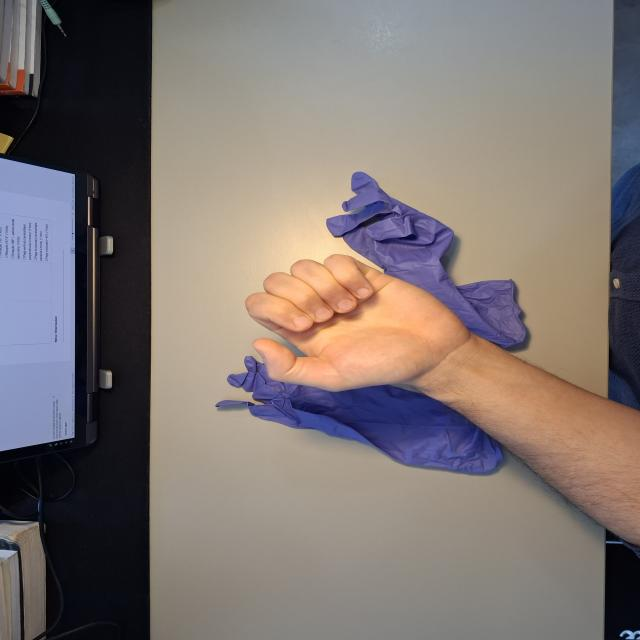glove_off: (242, 252, 474, 398)
